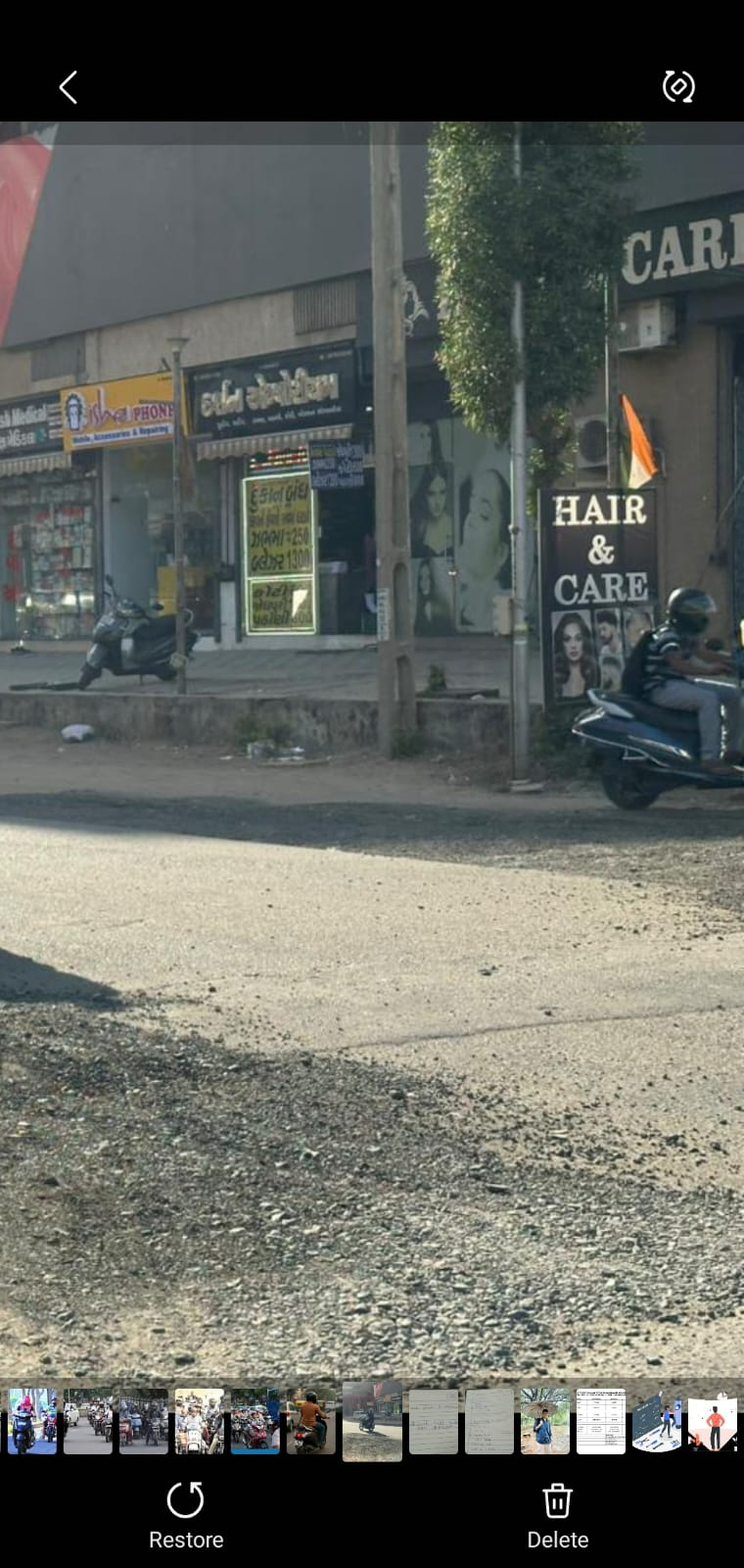BikeWithRider: (561, 572, 744, 823)
Helmet: (657, 577, 722, 641)
